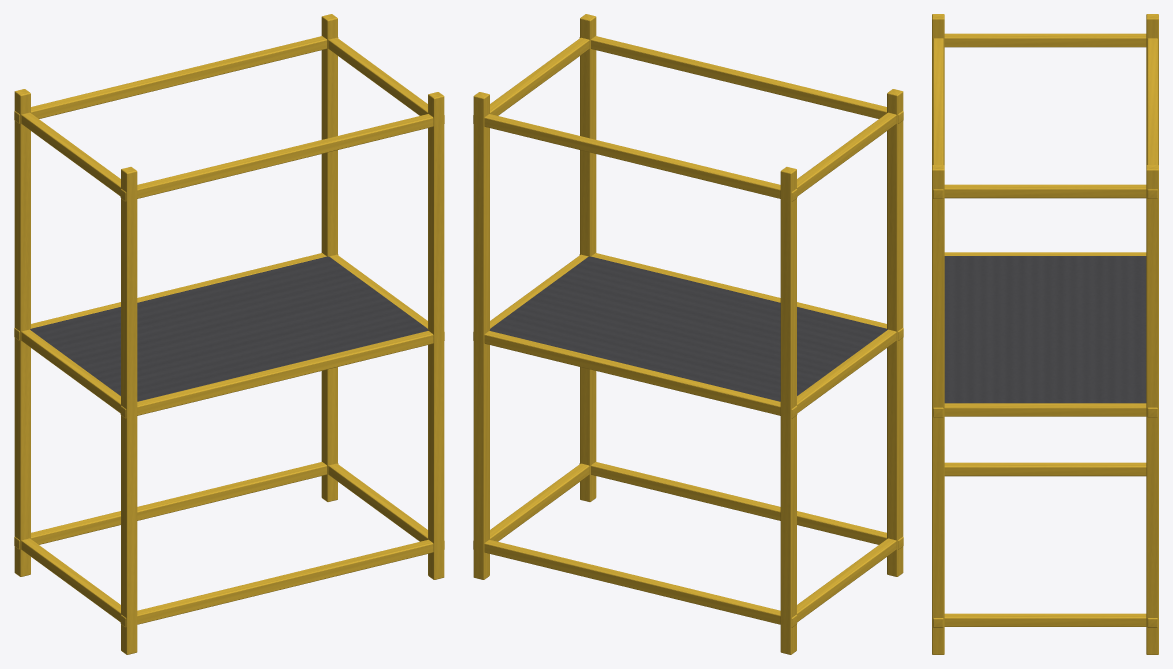
Rendered from equipment_scaffold.glb.
3 views of the same model, side by side, from view 1: azimuth 30°, elevation 25°; view 2: azimuth 150°, elevation 25°; view 3: azimuth 270°, elevation 25° (orthographic).
Parts seen in each view (by area): view 1: deck.001, upright.010, upright.012, upright.011, upright.013, horizontal, horizontal.004, horizontal.002, horizontal.005, horizontal.001, crossbar, crossbar.004 (+5 smaller); view 2: deck.001, upright.011, upright.013, upright.010, upright.012, horizontal.001, horizontal.005, horizontal.003, horizontal.004, horizontal, crossbar, crossbar.004 (+5 smaller); view 3: deck.001, upright.012, upright.013, crossbar, crossbar.004, crossbar.005, crossbar.003, crossbar.001, horizontal.004, horizontal.005, crossbar.002, upright.010 (+1 smaller).
Boxes of the visible parts, x1,y1,x2,y2 form: deck.001: (30,256,428,401); upright.010: (121,167,137,654); upright.012: (428,92,444,579); upright.011: (14,89,30,576); upright.013: (321,14,337,501); horizontal: (120,539,444,627); horizontal.004: (120,114,444,201); horizontal.002: (120,331,444,418); horizontal.005: (14,36,338,123); horizontal.001: (14,462,338,549); crossbar: (21,538,120,621); crossbar.004: (21,112,120,196); deck.001: (489,256,887,401); upright.011: (780,167,796,654); upright.013: (473,92,489,579); upright.010: (887,89,903,576); upright.012: (580,14,596,501); horizontal.001: (473,539,797,627); horizontal.005: (473,114,797,201); horizontal.003: (473,331,797,418); horizontal.004: (579,36,903,123); horizontal: (579,462,903,549); crossbar: (797,538,896,621); crossbar.004: (797,112,896,196); deck.001: (944,256,1146,403); upright.012: (932,165,944,654); upright.013: (1146,165,1158,654); crossbar: (944,462,1146,476); crossbar.004: (944,33,1146,47); crossbar.005: (944,184,1146,198); crossbar.003: (944,403,1146,416); crossbar.001: (944,613,1146,626); horizontal.004: (933,38,943,198); horizontal.005: (1147,38,1157,198); crossbar.002: (944,252,1146,255); upright.010: (932,14,944,165).
Bounding box in the file's own units: 2.08 × 3 × 1.27.
2 materials, 2 textured.
